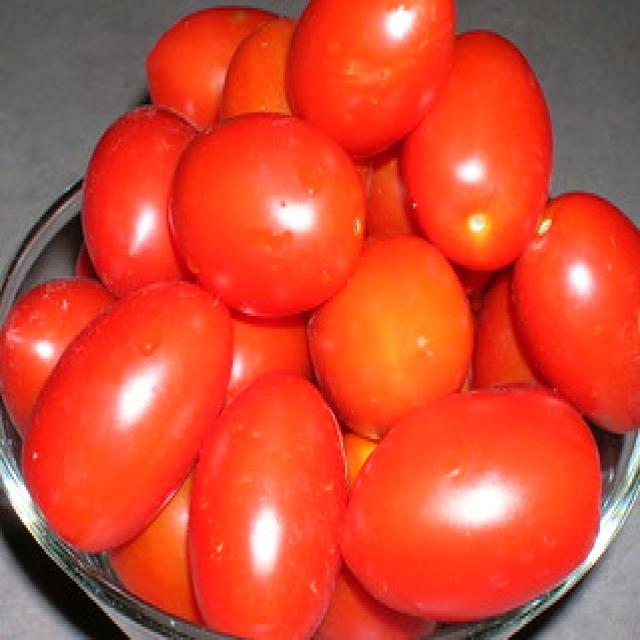Tomato: (341, 384, 602, 630), (18, 272, 244, 550), (186, 371, 349, 637), (167, 109, 369, 321), (400, 24, 552, 274), (302, 230, 477, 445), (511, 191, 640, 439), (284, 1, 457, 162), (81, 98, 206, 291)
